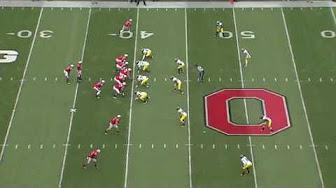defense: (170, 75, 185, 97), (241, 154, 254, 178), (134, 90, 153, 106), (259, 114, 275, 133), (136, 60, 151, 76), (135, 74, 151, 89), (174, 57, 186, 77), (178, 106, 188, 128), (140, 47, 154, 62), (216, 20, 225, 39), (241, 48, 252, 63)
oline: (113, 52, 130, 66), (113, 81, 126, 99), (113, 72, 127, 86), (119, 67, 133, 81), (115, 60, 129, 73)
qb: (75, 59, 84, 82)
ref: (194, 62, 205, 83), (137, 0, 148, 8)
skill: (81, 149, 99, 171), (104, 115, 120, 136), (92, 79, 105, 98), (64, 63, 75, 84), (121, 18, 134, 35)
